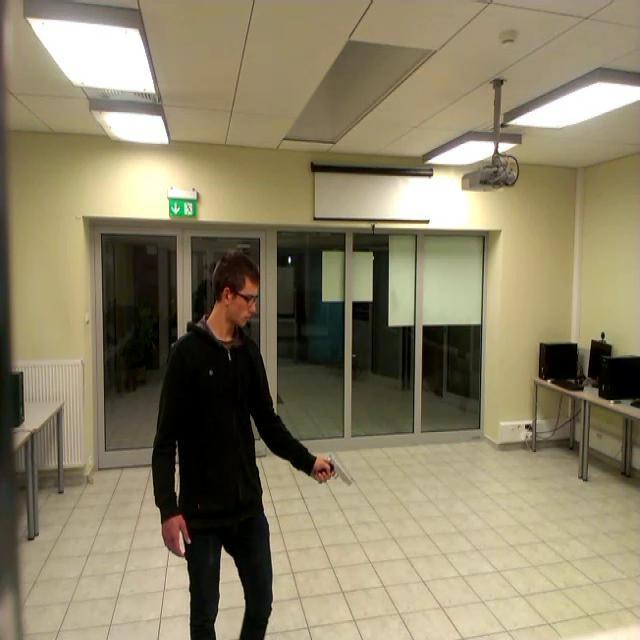weapon: (314, 453, 352, 491)
